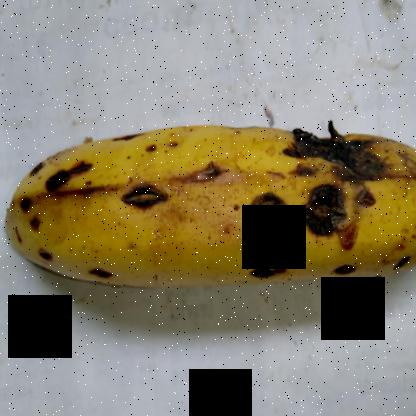rotten: (258, 114, 375, 294), (220, 218, 296, 289), (113, 150, 178, 228), (20, 146, 104, 204), (7, 211, 62, 272), (180, 145, 233, 191), (378, 245, 416, 294), (398, 136, 415, 244), (98, 118, 150, 153), (252, 182, 284, 230), (86, 267, 122, 288)
